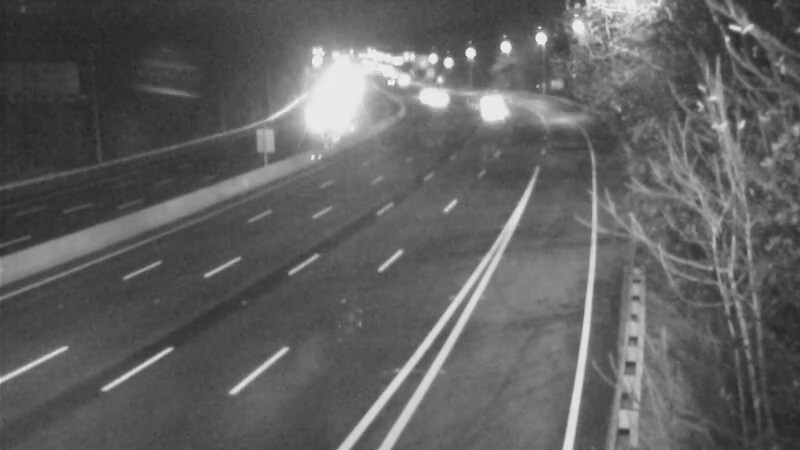vehicle: (404, 68, 454, 118), (415, 72, 465, 122), (453, 75, 503, 125), (466, 82, 516, 132)
